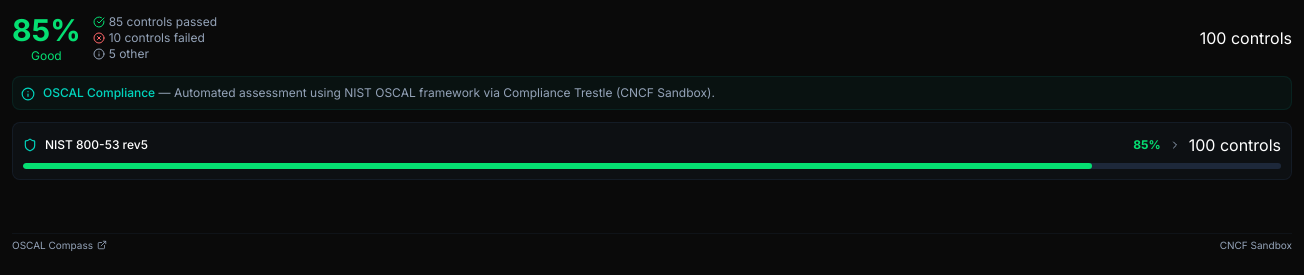
Test case: TrestleScan › profile interaction › clicking an expanded profile again collapses it (toggle)
The image size is (1304, 275).
Click the text "NIST 800-53 rev5": (96, 145) [45,137,148,153]
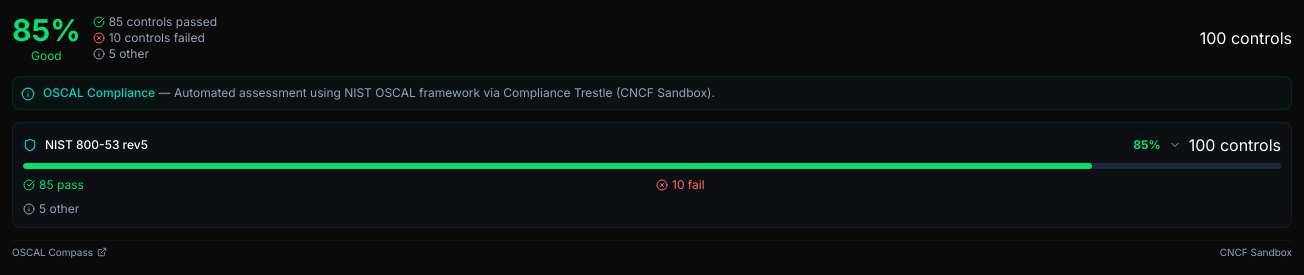
Now the text "85 pass" is shown, box [39,177,84,193]
Click the text "NIST 800-53 rev5": (96, 145) [45,137,148,153]
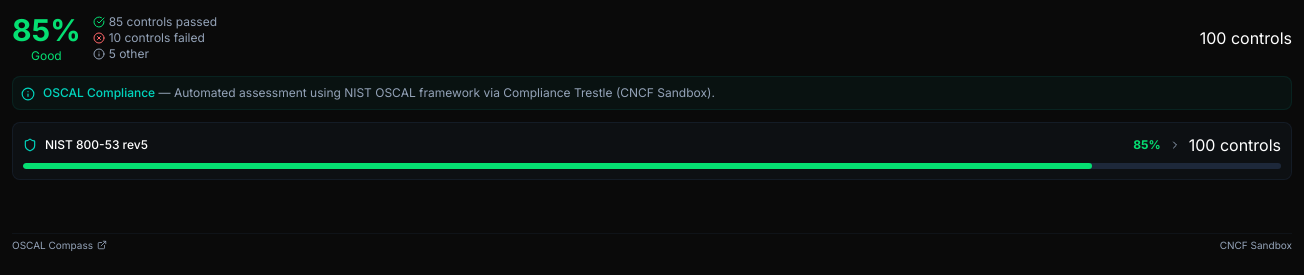
Now the button "85 pass" is gone
